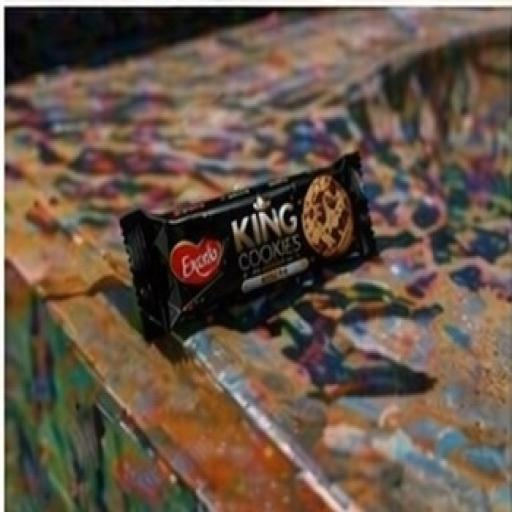king-cooking: (82, 108, 446, 360)
